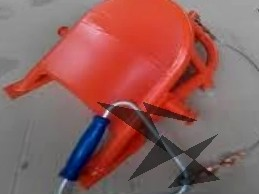chock: (0, 0, 228, 191)
